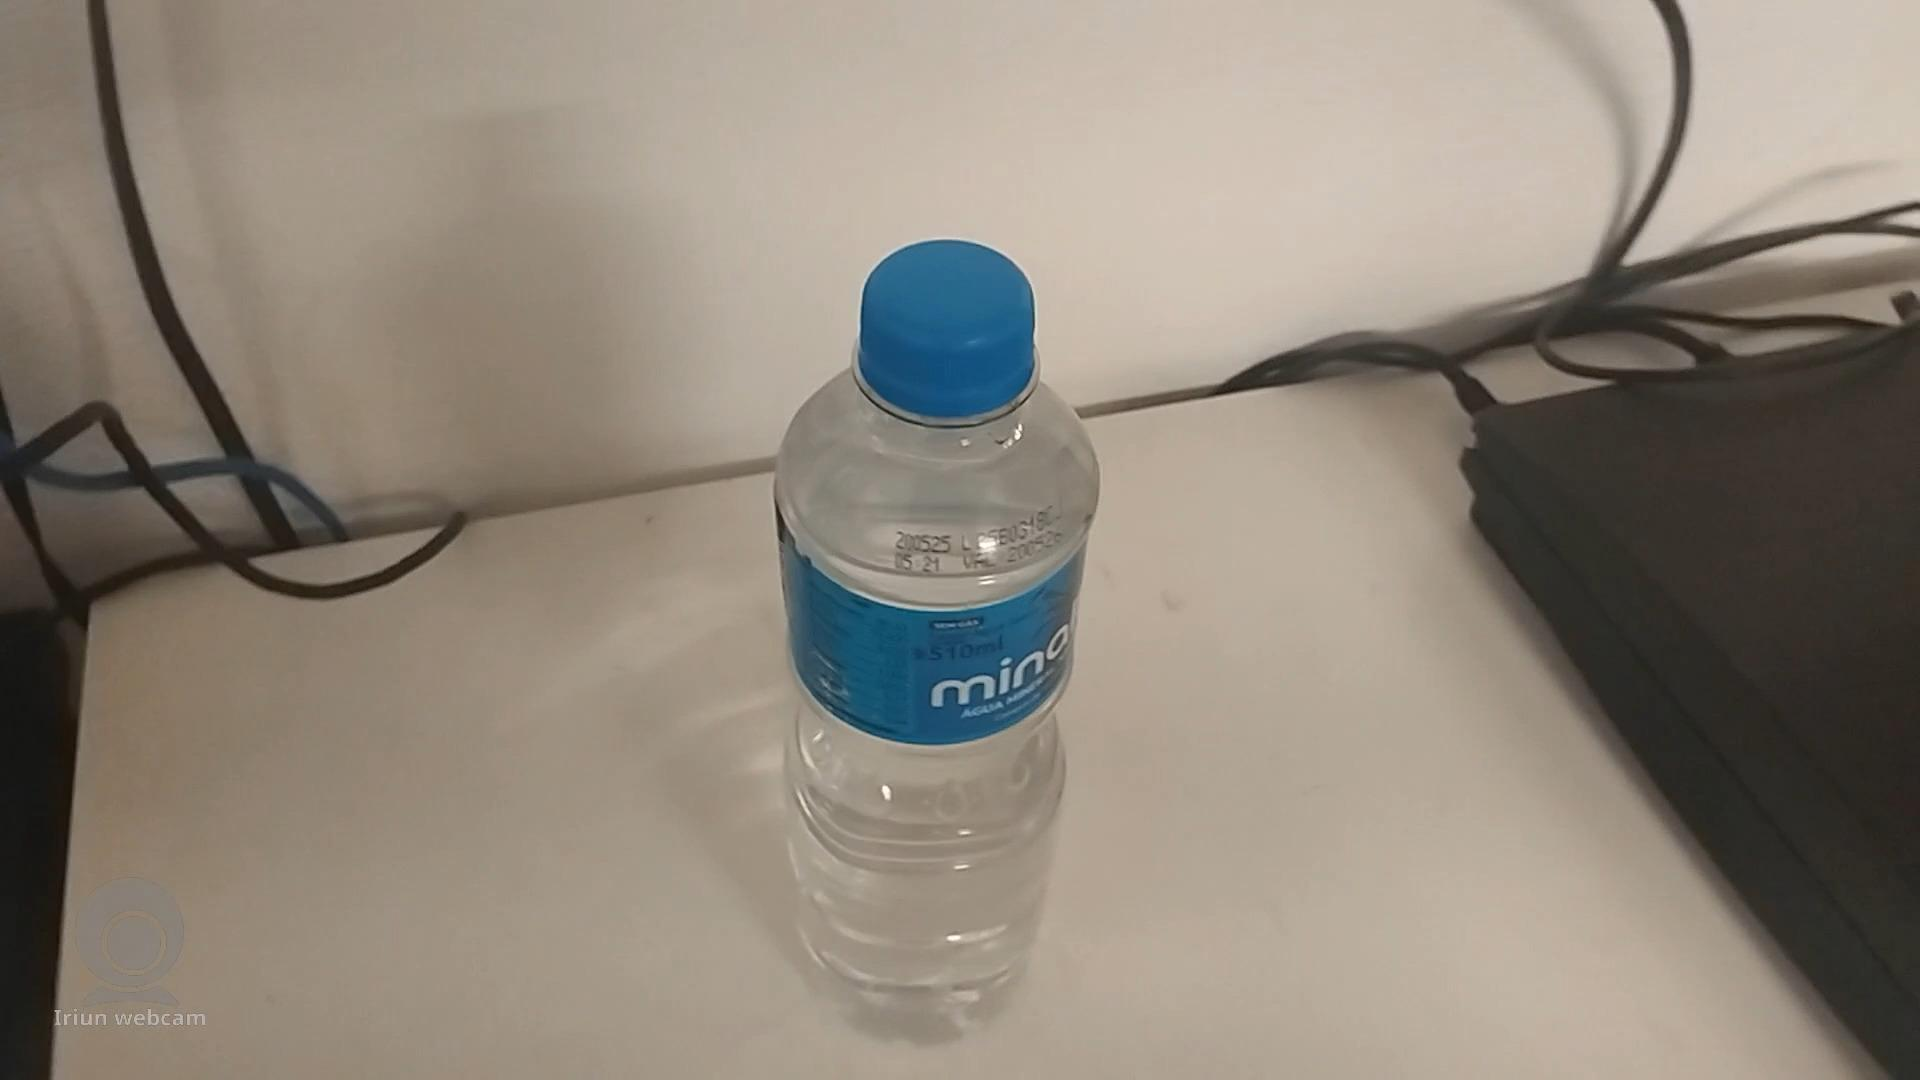agua: (779, 236, 1097, 1007)
